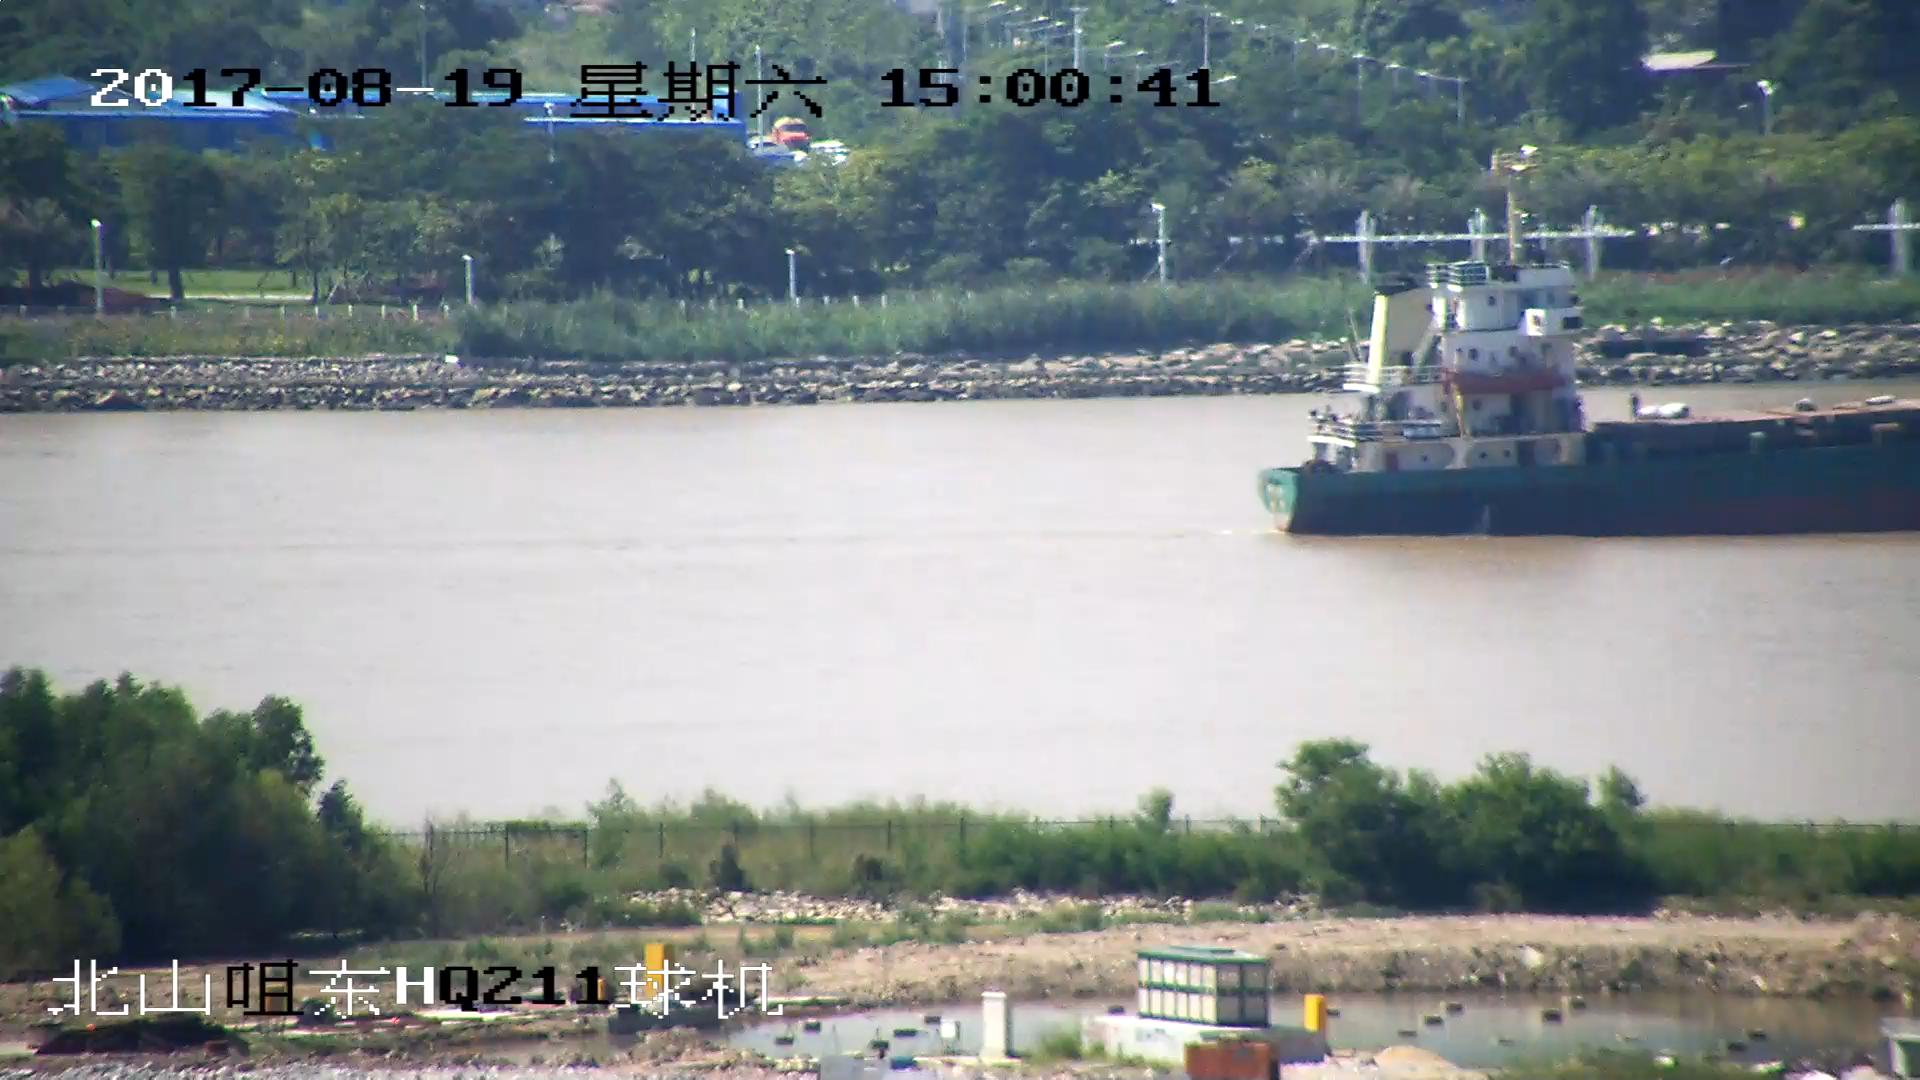general cargo ship: (1266, 260, 1920, 539)
